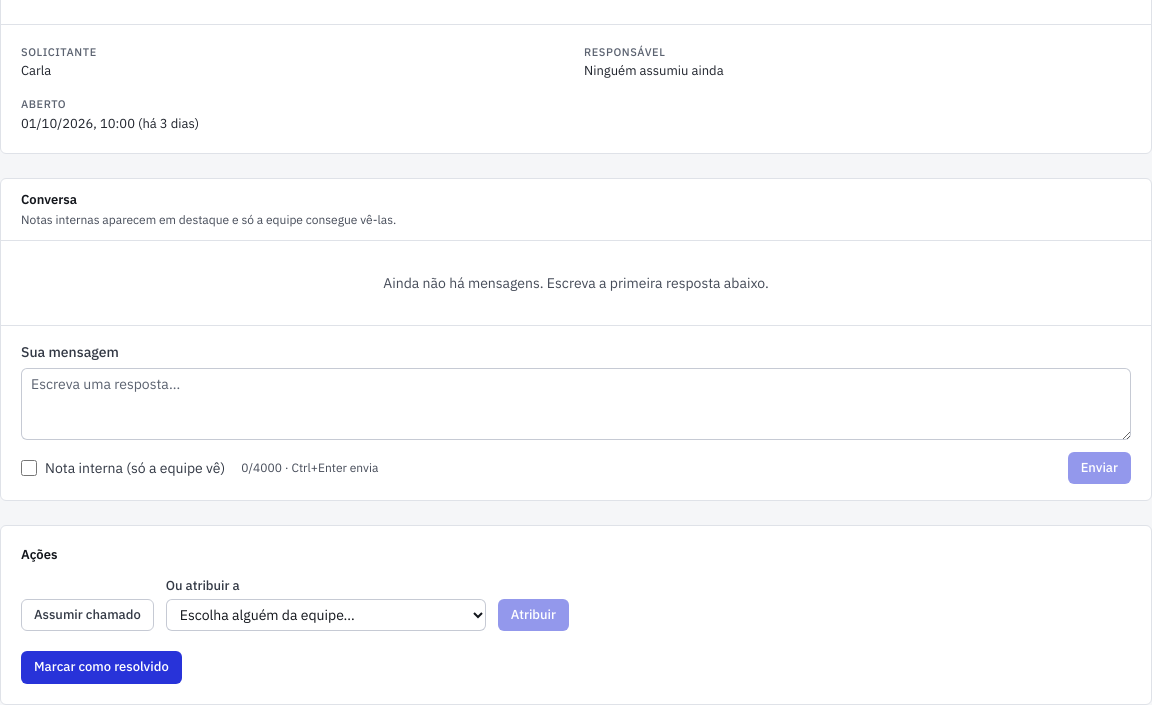
Test case: TicketDetailPage: ações por papel › traduz o erro de negócio do servidor em aviso para o usuário
(page scrolled)
Click the button "Marcar como resolvido".
click(101, 668)  # box [21, 651, 182, 684]
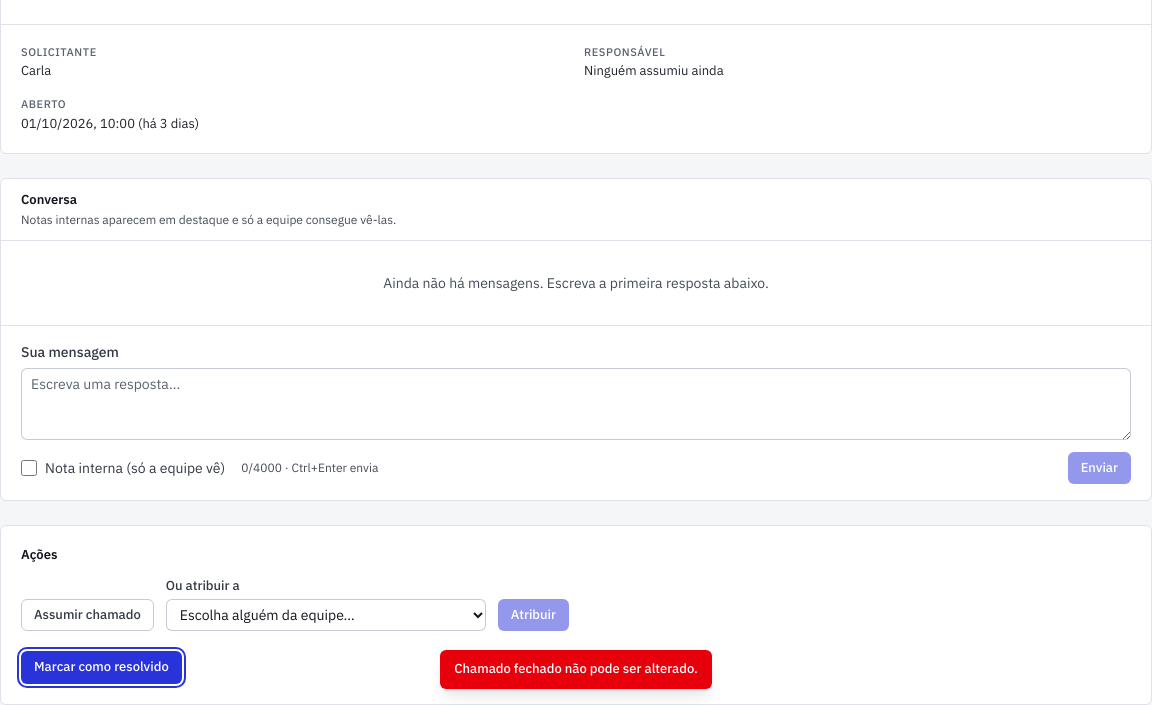
Expected: the text "Chamado fechado não pode ser alterado." is shown, [440, 650, 712, 689]
